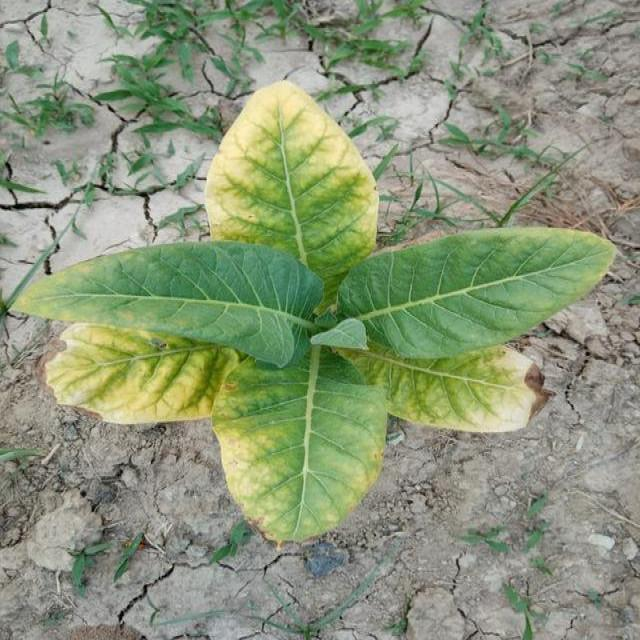crop: (7, 118, 590, 539)
